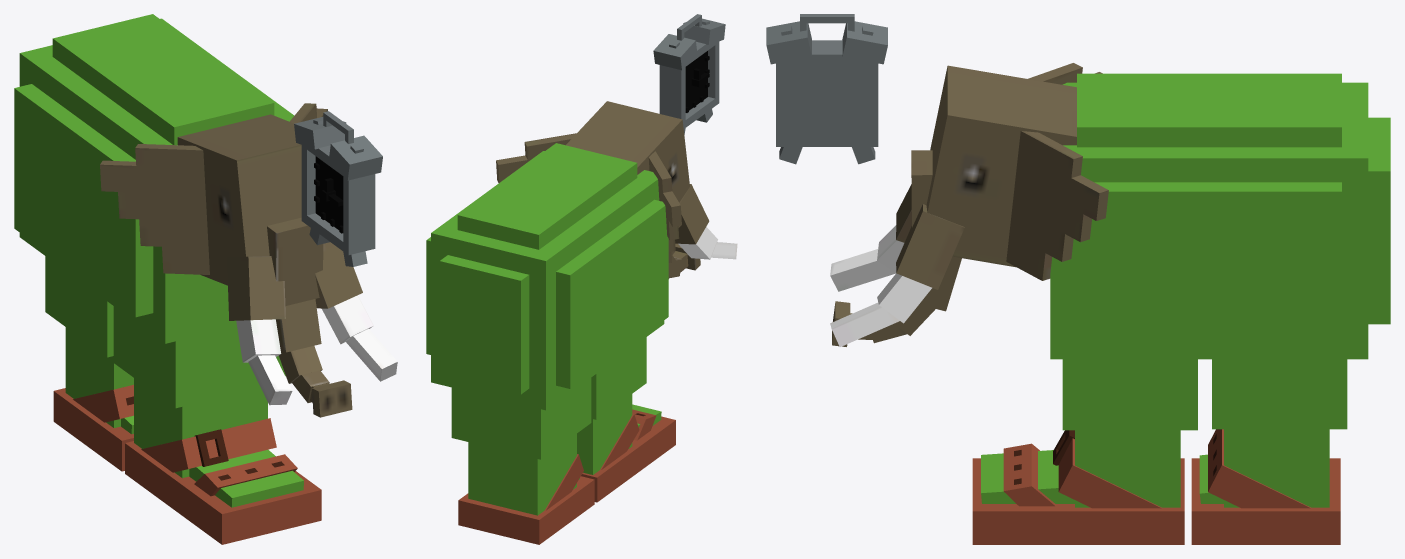
File: lirili.fbx
3 views of the same model, side by side, from view 1: azimuth 30°, elevation 25°; view 2: azimuth 150°, elevation 25°; view 3: azimuth 270°, elevation 25° (orthographic). The views are drawn at different scales.
Visible parts, largest first — view 1: lirili; view 2: lirili; view 3: lirili.
Part boxes in pixels (left/top/right/bottom): lirili: left=14, top=14, right=397, bottom=544; lirili: left=426, top=14, right=737, bottom=544; lirili: left=766, top=14, right=1390, bottom=544.
Bounding box in the file's own units: 388 × 750 × 843.
